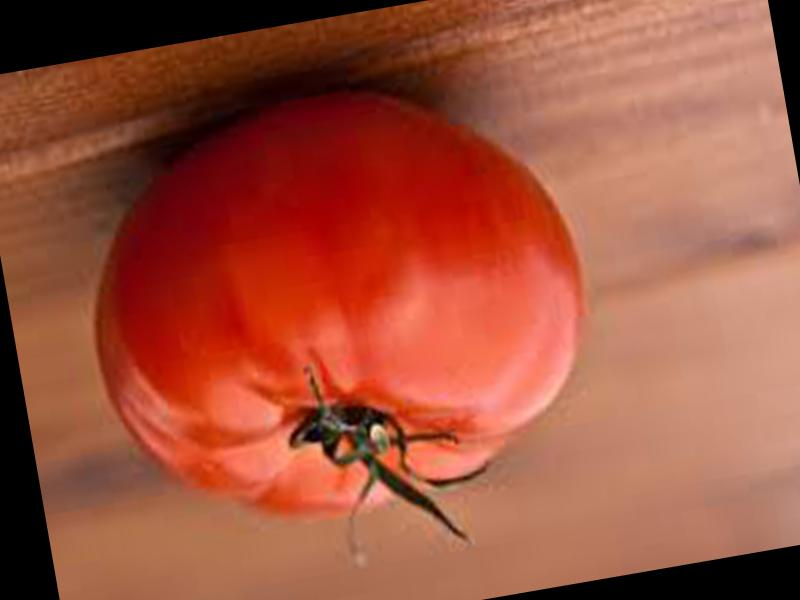Tomato: (63, 55, 618, 549)
